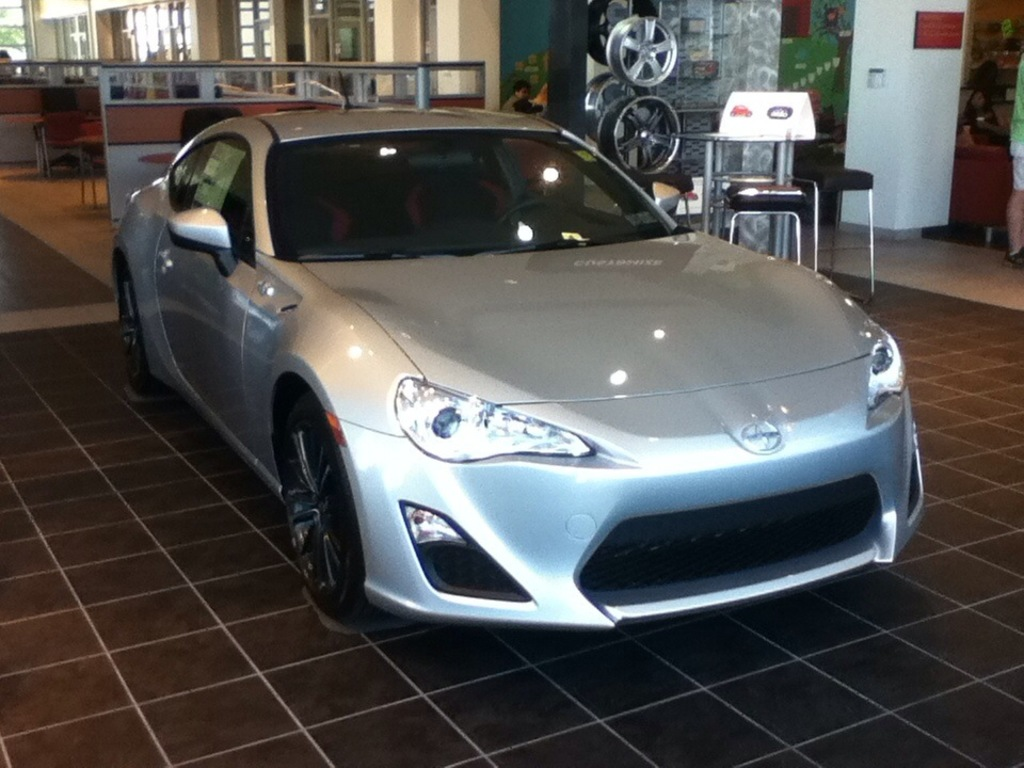Car: (108, 105, 928, 626)
